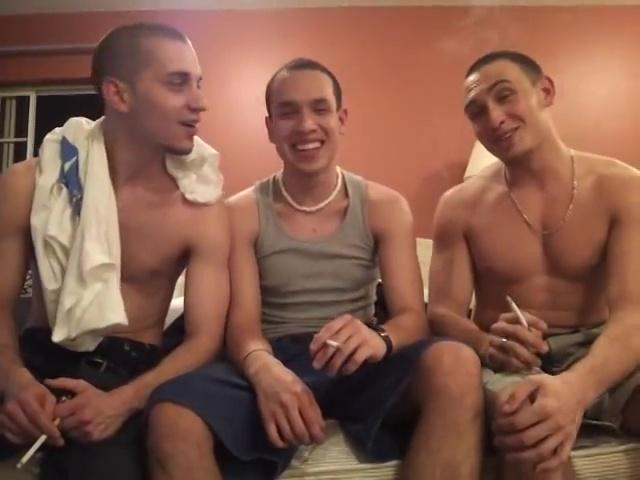cigarette: (15, 417, 63, 469), (505, 293, 535, 333), (323, 336, 346, 353)
